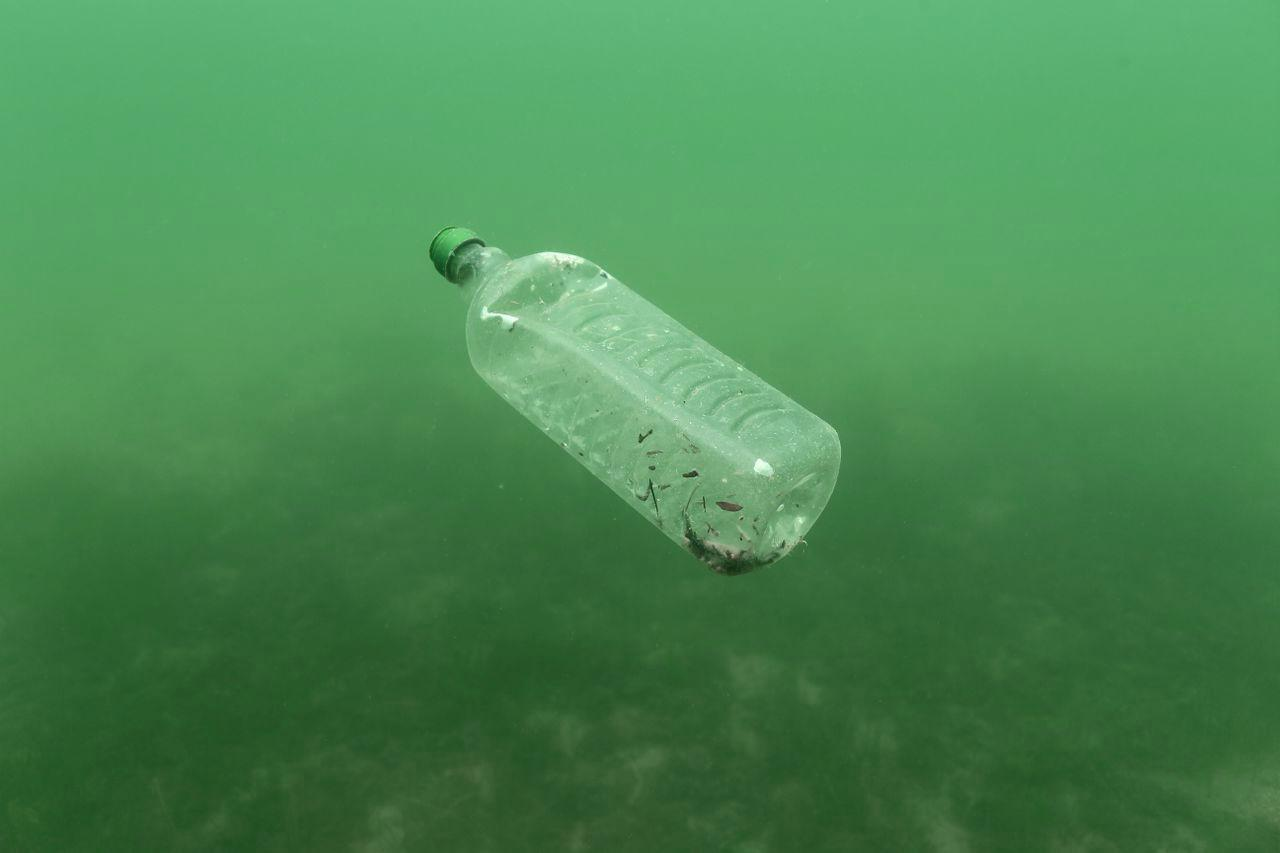Plastic: (405, 222, 851, 588)
